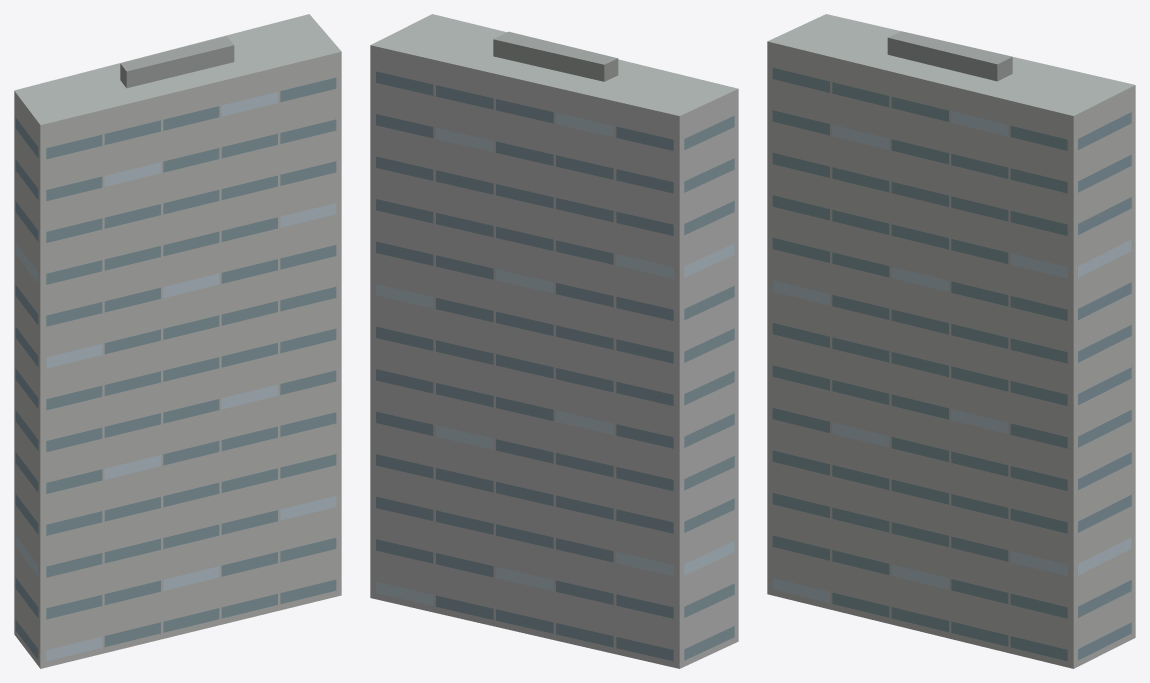
The model's file is fallback-jamsil-ricenz-228.glb.
3 views of the same model, side by side, from view 1: azimuth 30°, elevation 25°; view 2: azimuth 150°, elevation 25°; view 3: azimuth 330°, elevation 25° (orthographic).
Parts seen in each view (by area): view 1: fallback-jamsil-ricenz-228; view 2: fallback-jamsil-ricenz-228; view 3: fallback-jamsil-ricenz-228.
Boxes of the visible parts, left/top/right/bottom form: fallback-jamsil-ricenz-228: left=14, top=14, right=341, bottom=668; fallback-jamsil-ricenz-228: left=370, top=14, right=738, bottom=668; fallback-jamsil-ricenz-228: left=767, top=14, right=1135, bottom=668.
Size of the model in its own units: 47.13 by 80 by 12.15.
